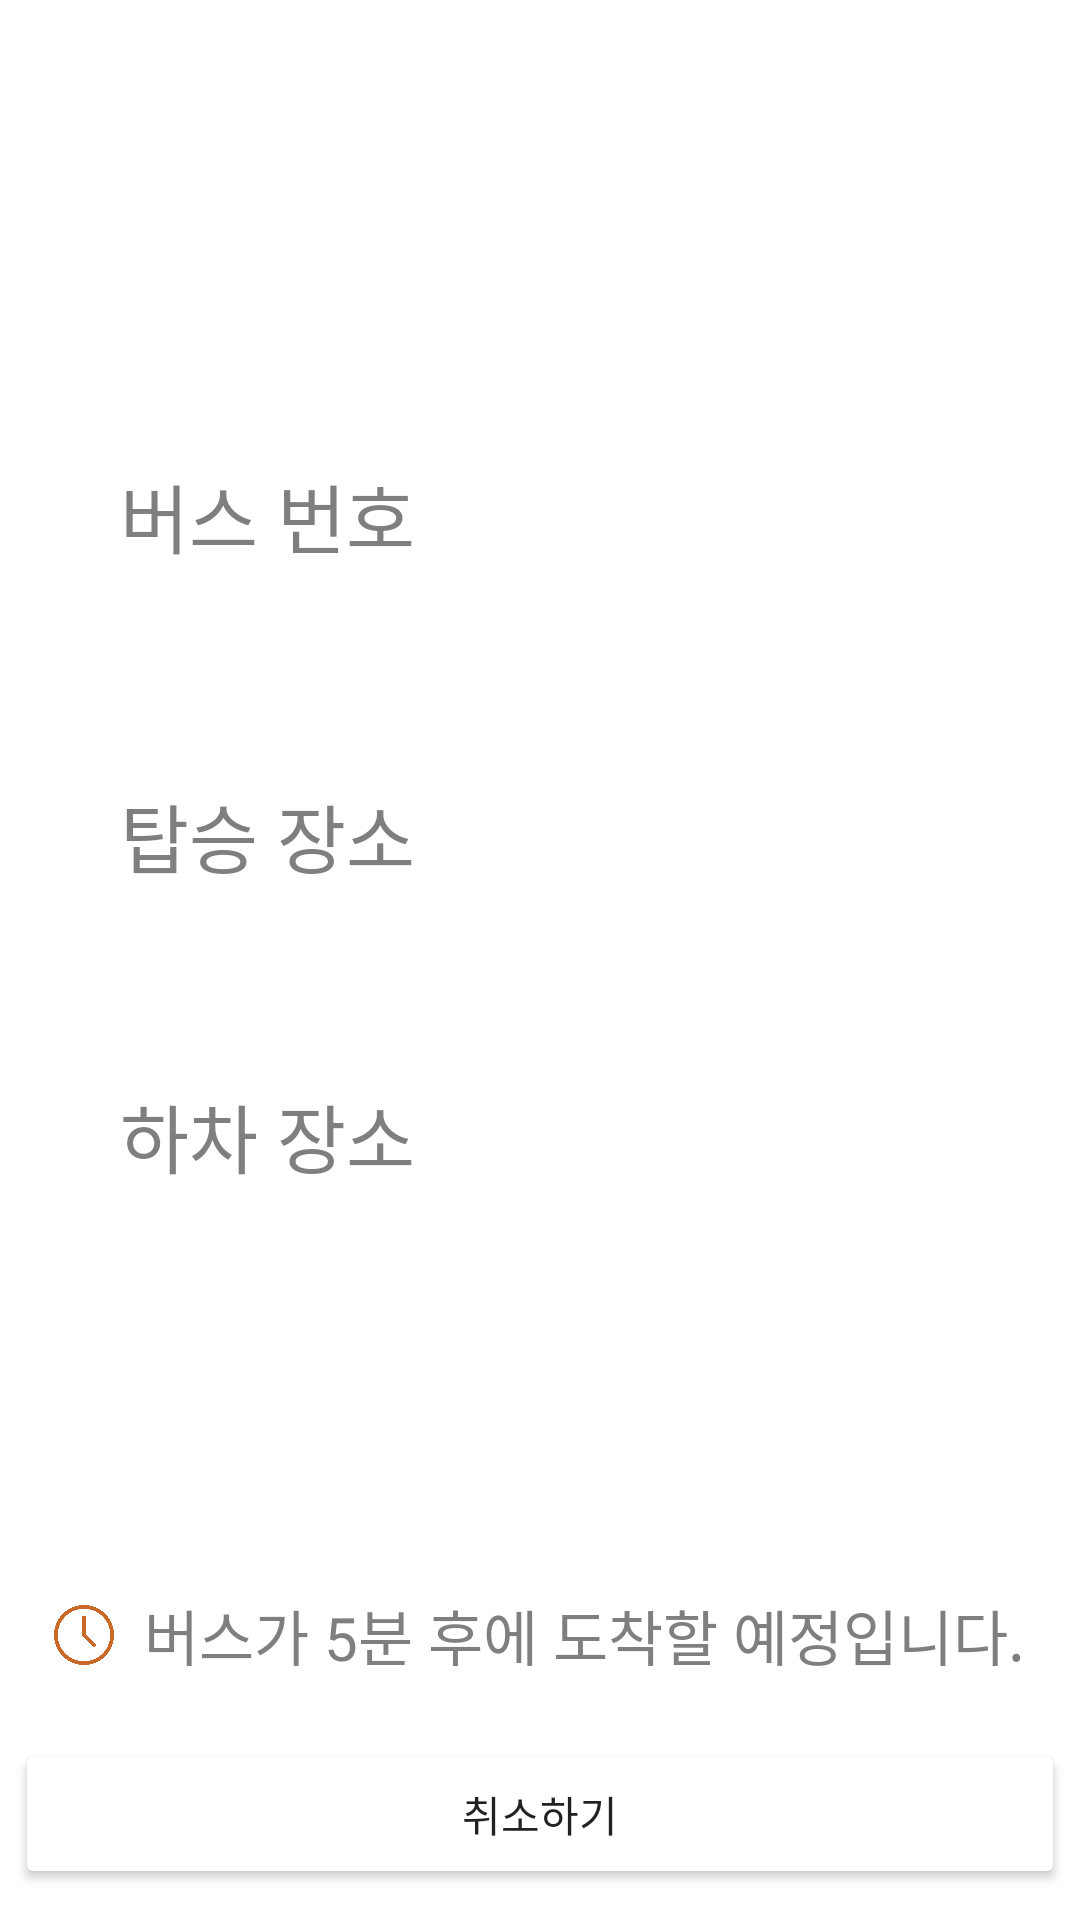

Screen size 1080px×1920px. Icon name, then its center in pixels as (x=x, y=y):
clock: (x=84, y=1635)
